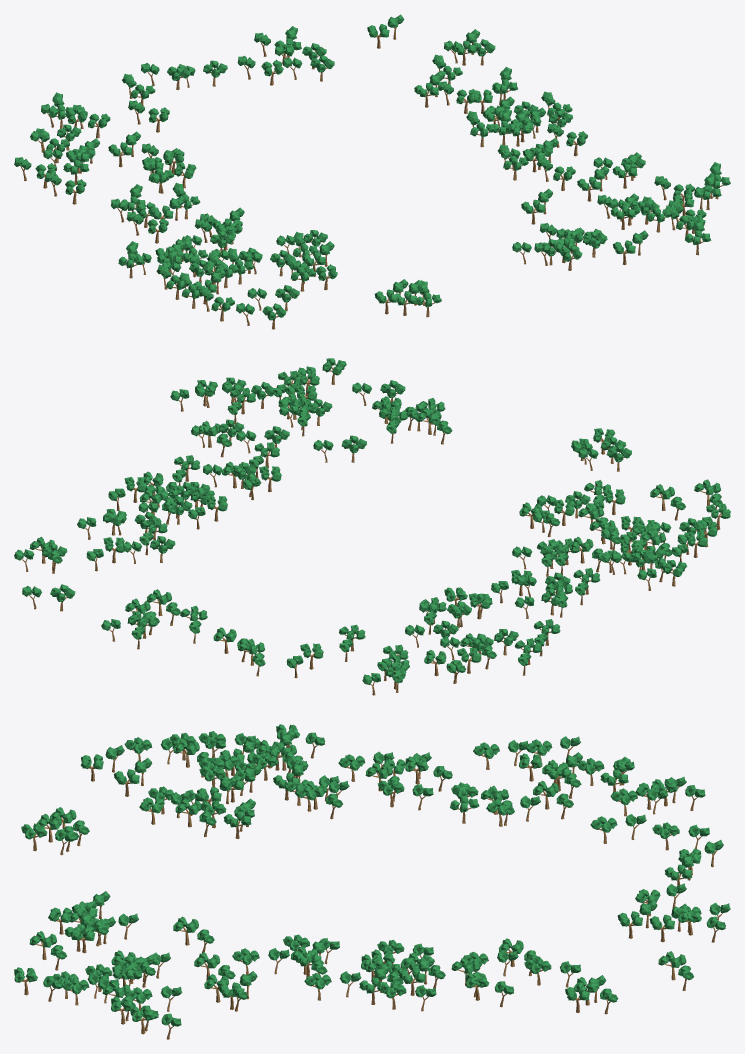
File: Arboles.fbx
3 renders of one model, top to bottom at view 1: azimuth 30°, elevation 25°; view 2: azimuth 150°, elevation 25°; view 3: azimuth 270°, elevation 25°, orthographic. The views are drawn at different scales.
Parts seen in each view (by area): view 1: Cartoon low poly trees.100; view 2: Cartoon low poly trees.100; view 3: Cartoon low poly trees.100.
Boxes of the visible parts, x1,y1,x2,y2 form: Cartoon low poly trees.100: (14,14,730,329); Cartoon low poly trees.100: (14,358,730,695); Cartoon low poly trees.100: (14,724,730,1039).
Bounding box in the file's own units: 41898 × 1590 × 42646.
